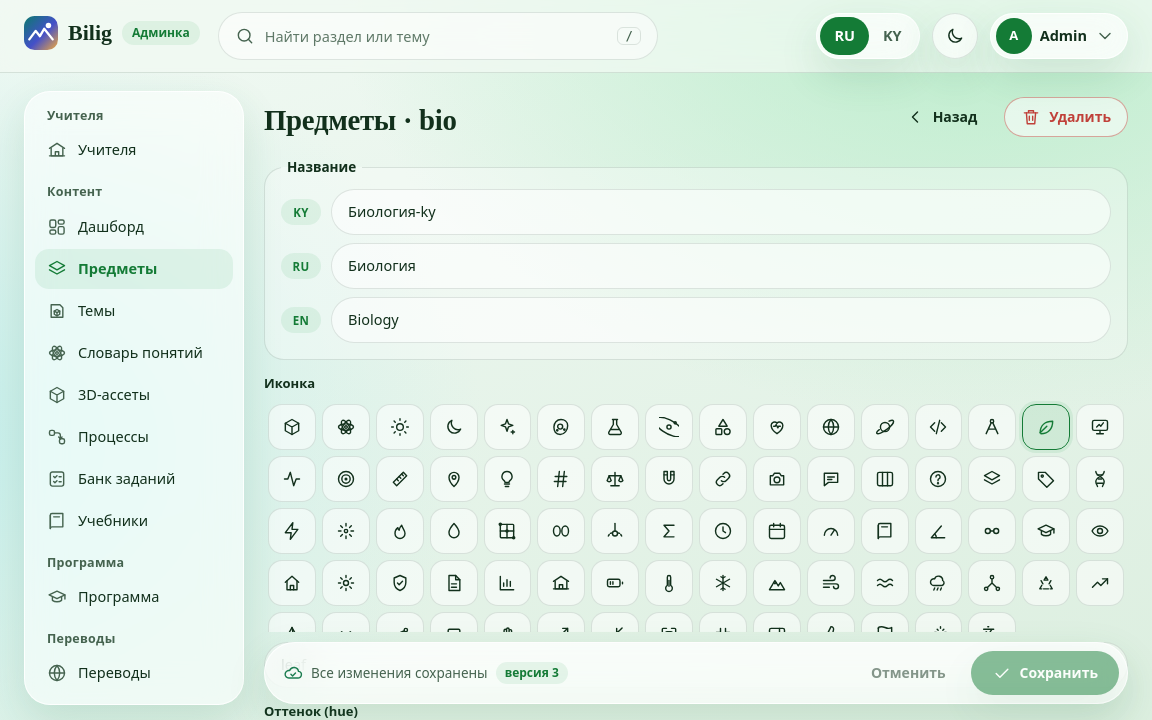
optimistic locking: 409 conflict flow › sends If-Match, shows both versions on 409, and "keep mine" re-saves on top of the new version
Replace the text in the field showing "Биология" with "Биология 7": point(721, 266) x1=331 y1=243 x2=1111 y2=289
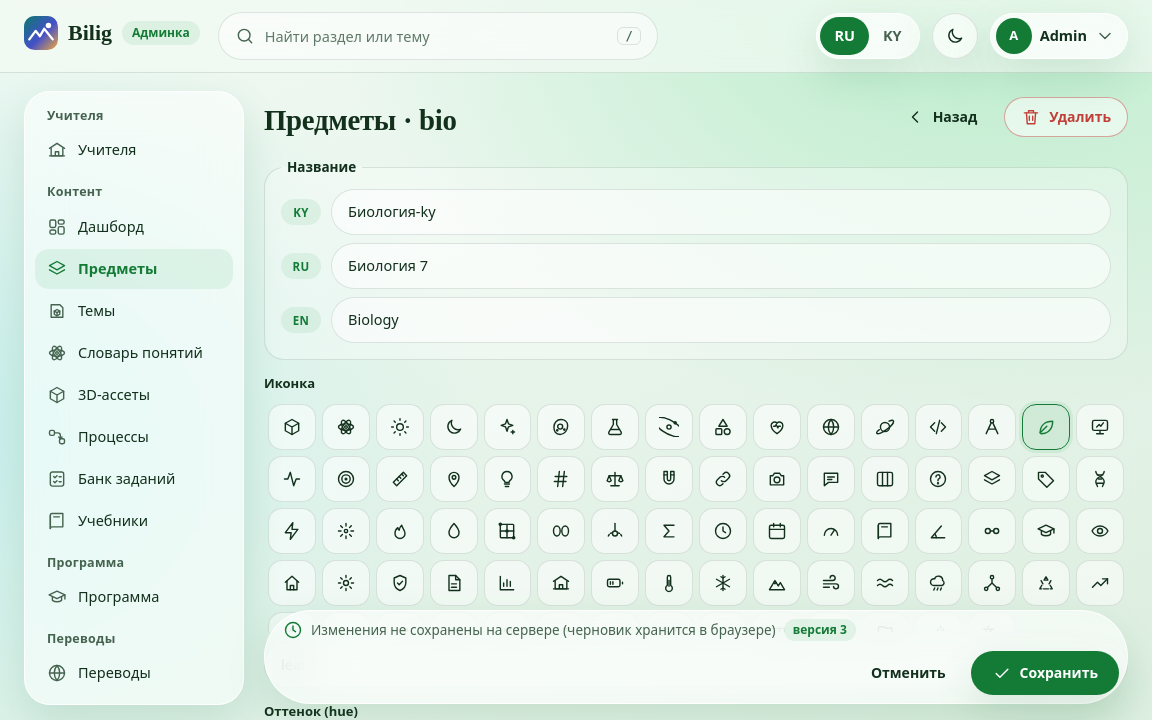
Click the button "Сохранить": point(1045, 673) x1=971 y1=651 x2=1119 y2=695
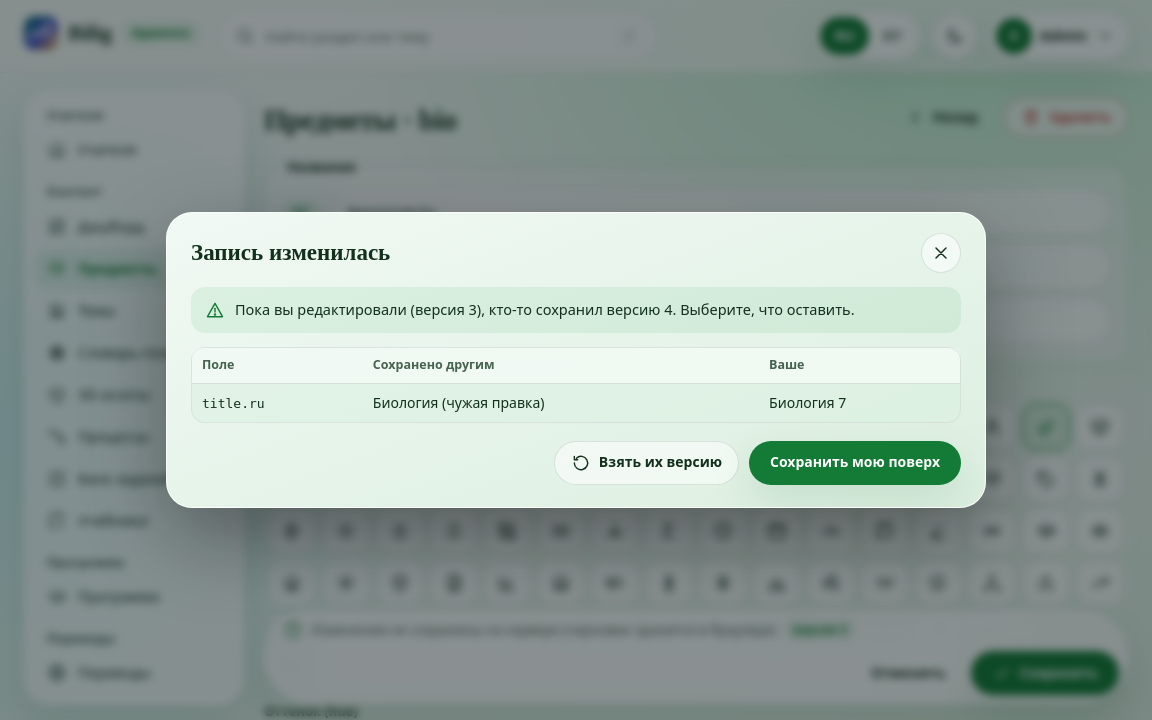
Check: the dialog "Запись изменилась" shows "версия 3", box x1=235 y1=299 x2=855 y2=319
Check: the dialog "Запись изменилась" shows "версию 4", box x1=235 y1=299 x2=855 y2=319
Check: the dialog "Запись изменилась" shows "Биология (чужая правка)", box x1=373 y1=393 x2=544 y2=412
Click the button "Сохранить мою поверх": point(855, 463) x1=749 y1=441 x2=961 y2=485
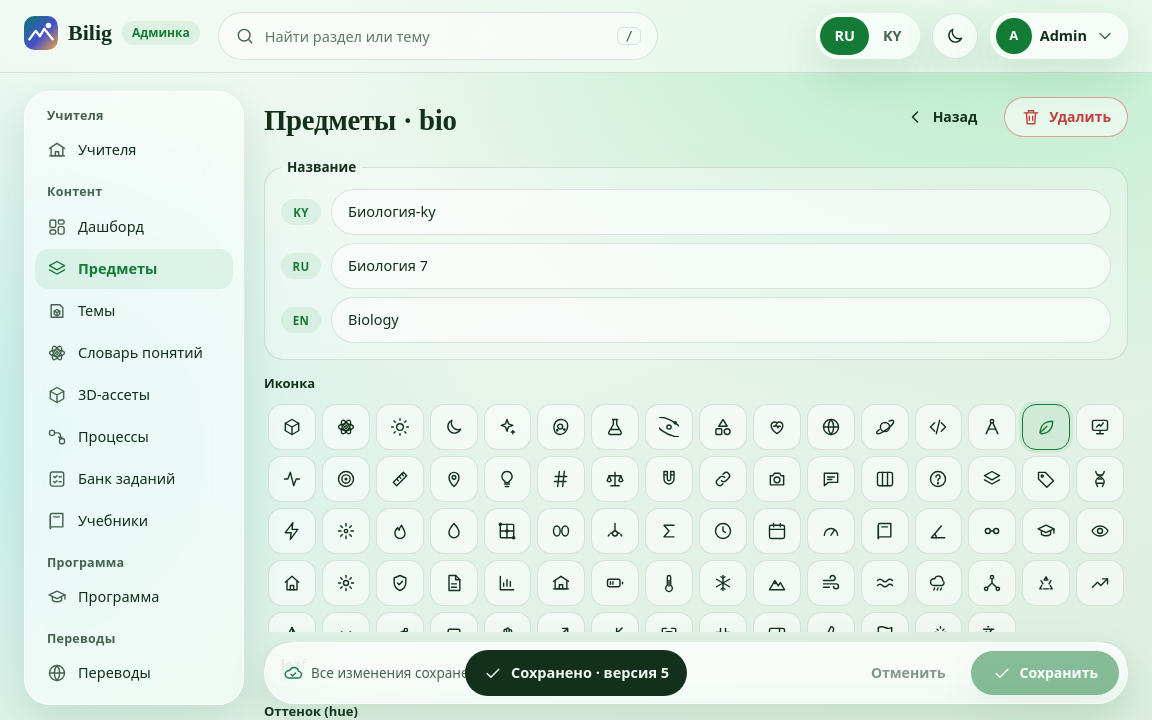
Check: the dialog is gone
Check: the text "версия 5" is shown, box x1=496 y1=662 x2=568 y2=684
